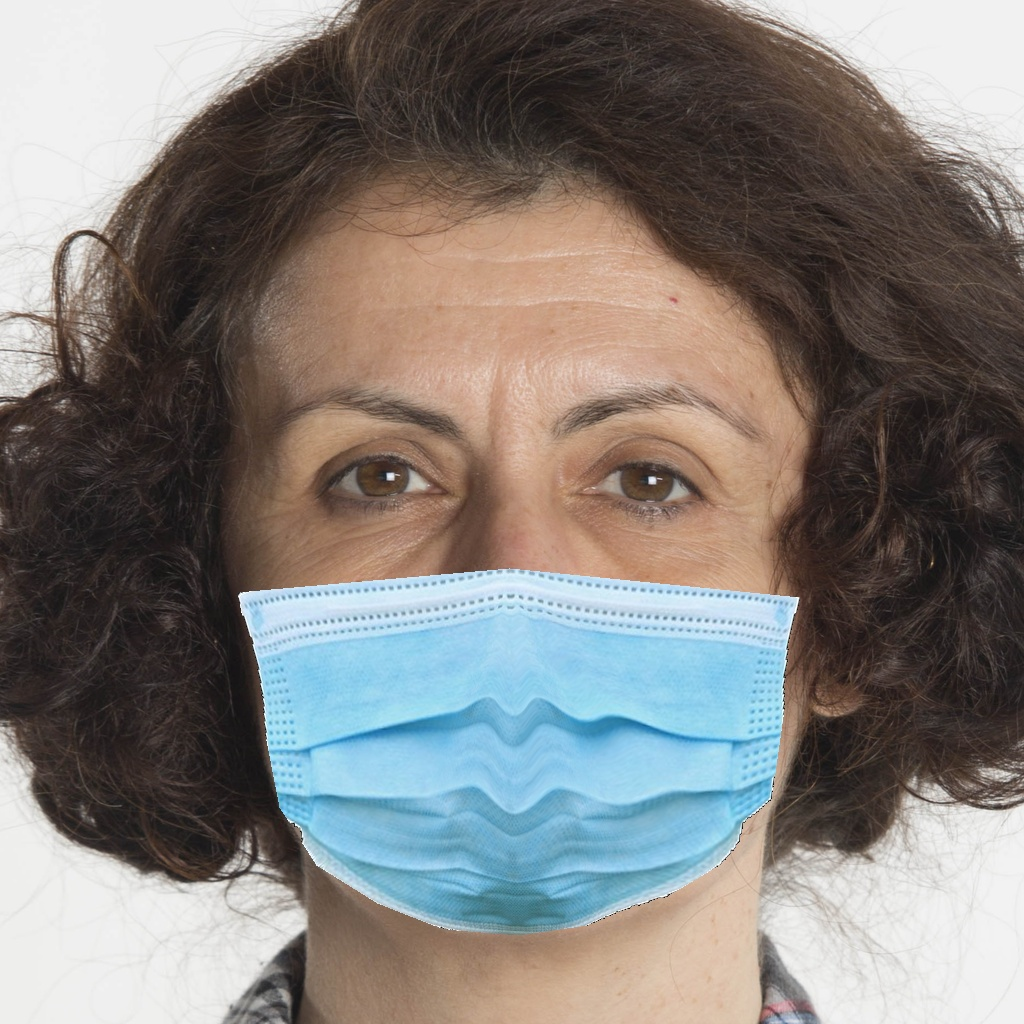Mask: (235, 370, 804, 943)
